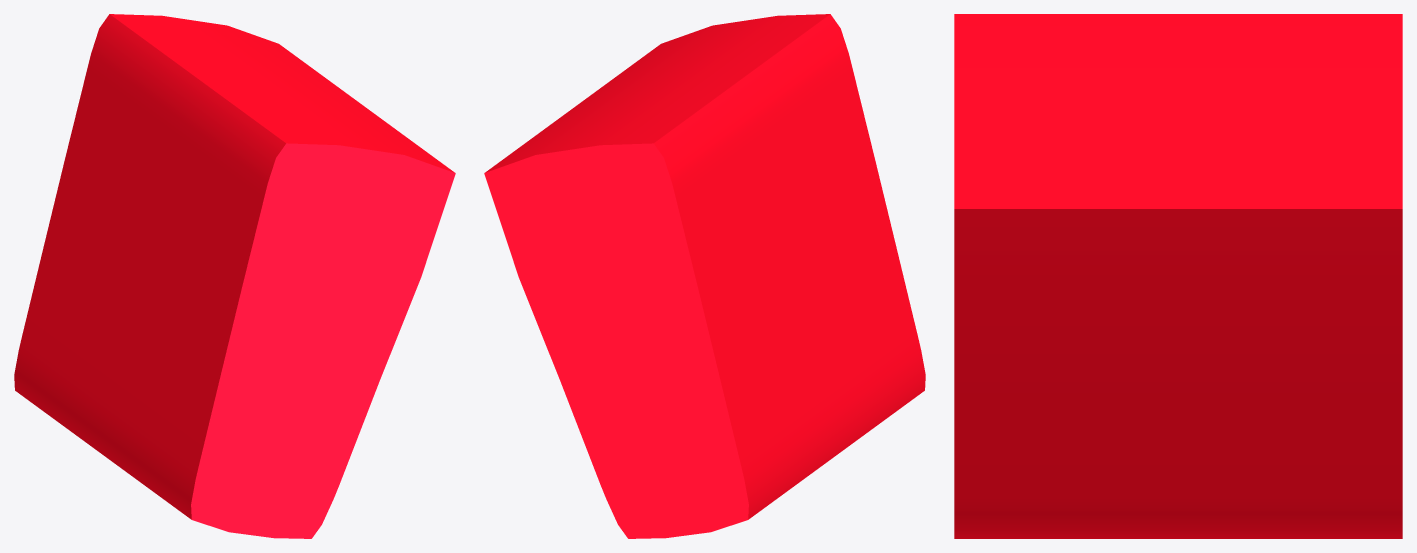
File: symbol,_Zyzol_Red.glb
The picture shows the model from 3 angles, left to right: view 1: azimuth 30°, elevation 25°; view 2: azimuth 150°, elevation 25°; view 3: azimuth 270°, elevation 25°; orthographic projection. The views are drawn at different scales.
Parts seen in each view (by area): view 1: ,_Zyzol_Red; view 2: ,_Zyzol_Red; view 3: ,_Zyzol_Red.
Part boxes in pixels (box(x1,y1,x2,y2)): ,_Zyzol_Red: box(14, 14, 455, 538); ,_Zyzol_Red: box(484, 14, 925, 538); ,_Zyzol_Red: box(954, 14, 1402, 538).
Size of what is drawn, in the model's own units: 0.0389 by 0.0564 by 0.045.
Materials: 2 (2 with a texture image).
